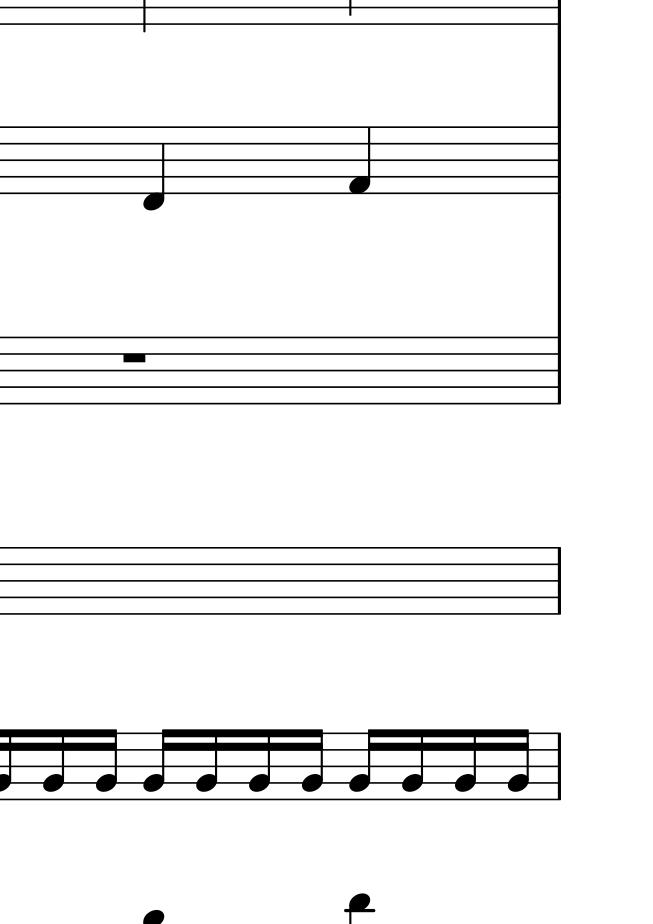16_2: (345, 726, 379, 803), (142, 728, 176, 801), (398, 727, 429, 802), (506, 727, 535, 803), (454, 727, 481, 802), (42, 726, 68, 802), (248, 726, 274, 802), (194, 727, 220, 801), (94, 728, 119, 804), (302, 727, 327, 803)
4_-1: (142, 124, 168, 212)
4_1: (349, 125, 373, 196)
Rests1: (120, 352, 150, 364)
Single_barline: (550, 547, 567, 612), (550, 732, 566, 800), (550, 338, 567, 402), (550, 127, 566, 193)
